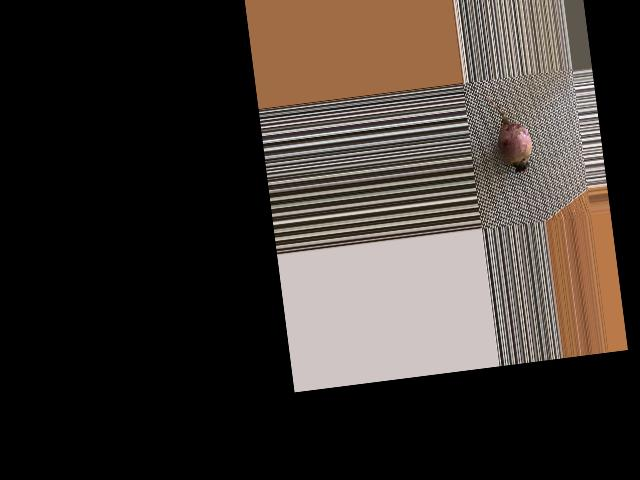beet: (477, 86, 534, 178)
